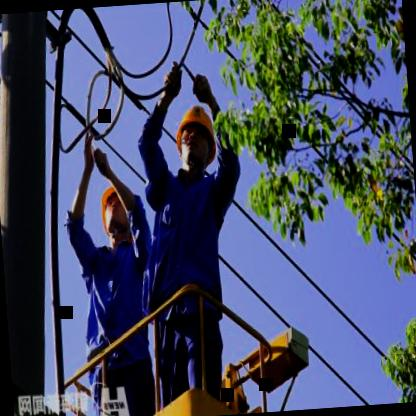helmet: (169, 96, 223, 179), (97, 178, 130, 242)
